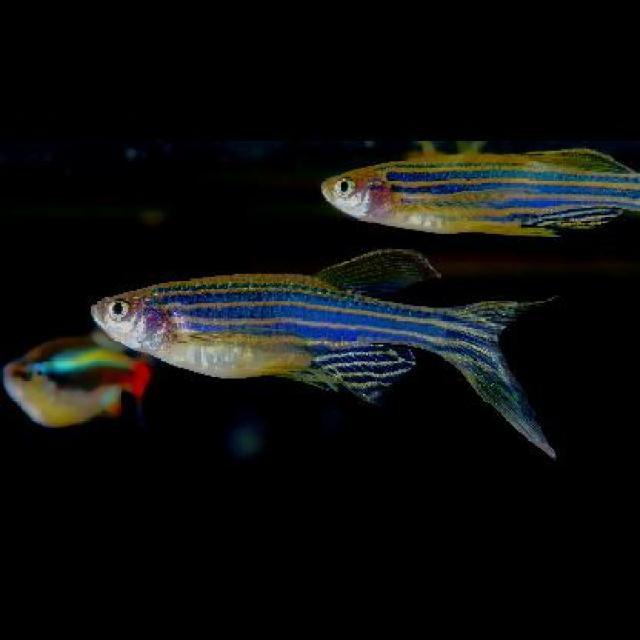ZebraFish: (88, 273, 447, 402), (317, 138, 638, 234)
